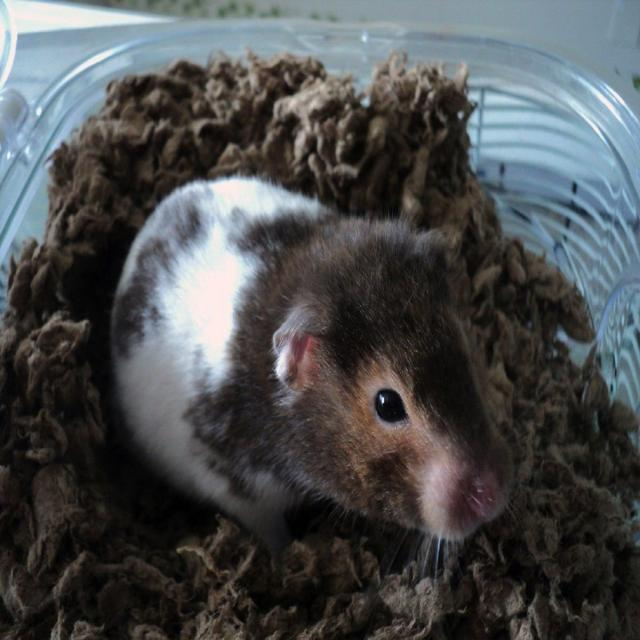hamster: (143, 202, 480, 567)
